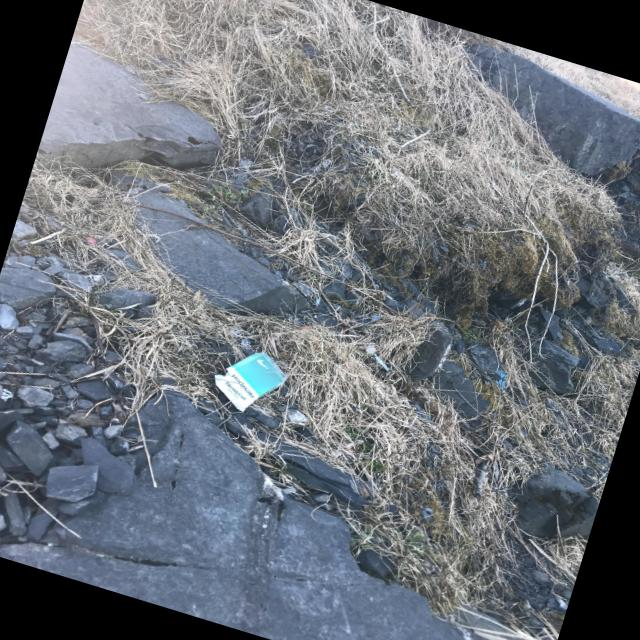less trash: (214, 352, 286, 411)
